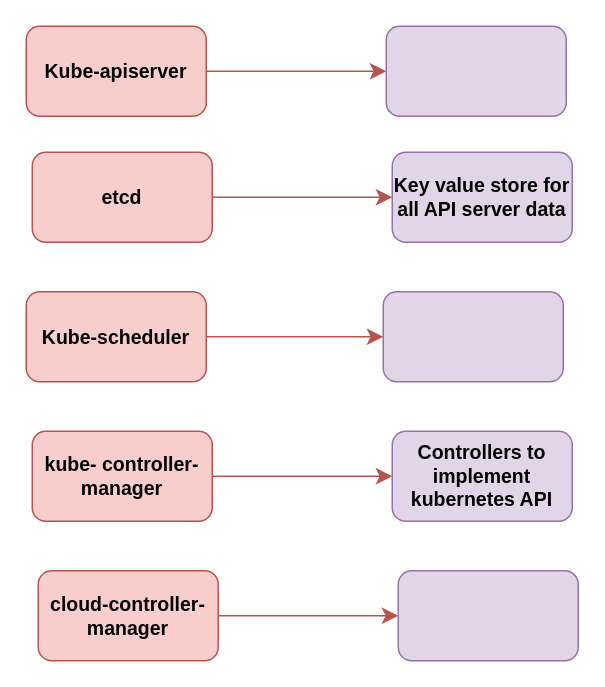
Some shapes in this 605 by 687 pixel diagram are drawn without their labels. Here are the shapes that lost their labels. From the top down, the centre of each, then its label:
(x=475, y=70): Exposes Kubernetes HTTP API
(x=472, y=336): Looks for pod not bound to node and assign pod to node
(x=487, y=615): Integrates with underlying cloud provider
